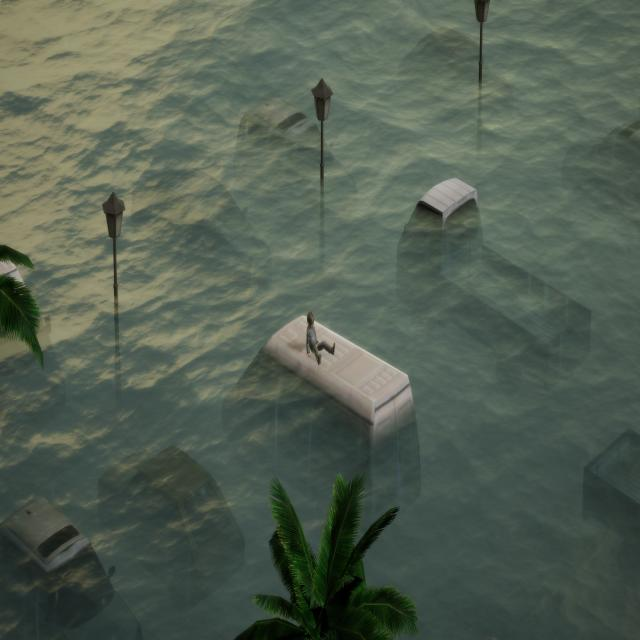Human: (300, 302, 339, 370)
